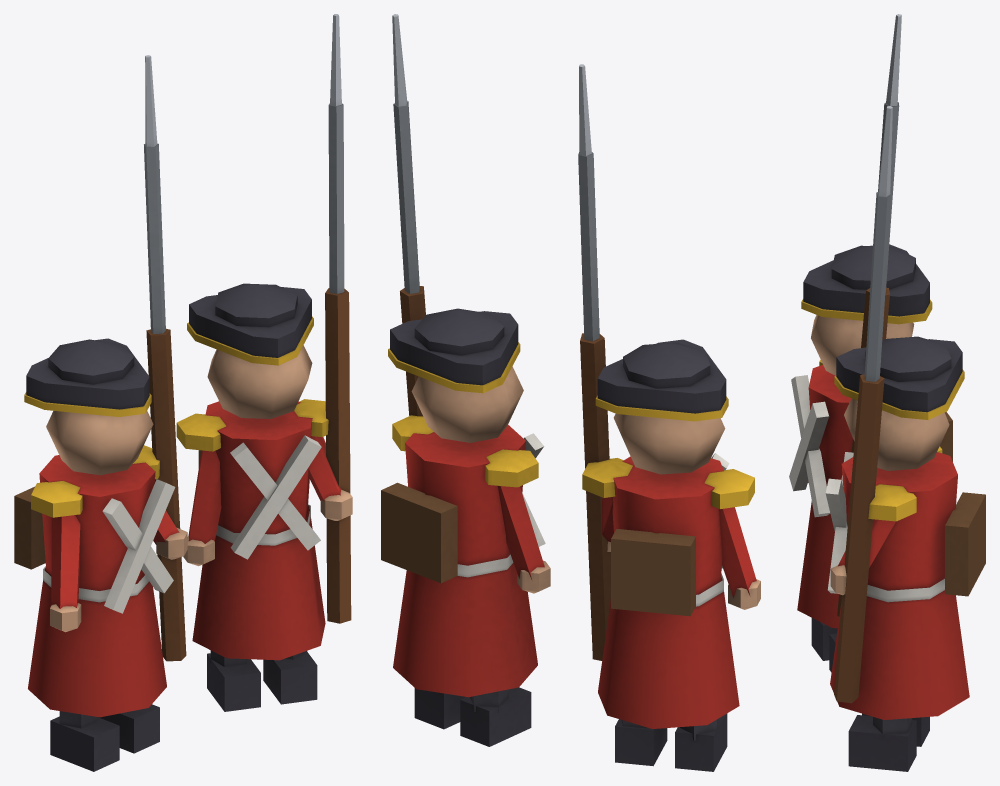
The model's file is sentry_dl4_red.glb.
The picture shows the model from 3 angles, left to right: view 1: azimuth 30°, elevation 25°; view 2: azimuth 150°, elevation 25°; view 3: azimuth 270°, elevation 25°; orthographic projection. The views are drawn at different scales.
Parts seen in each view (by area): view 1: sentry_dl4_red; view 2: sentry_dl4_red; view 3: sentry_dl4_red.
Part boxes in pixels (x1,y1,x2,y2): sentry_dl4_red: [14, 14, 352, 771]; sentry_dl4_red: [381, 14, 760, 771]; sentry_dl4_red: [789, 14, 985, 771].
Bounding box in the file's own units: 0.3372 × 0.6557 × 0.1724.
Materials: 1 (1 with a texture image).
